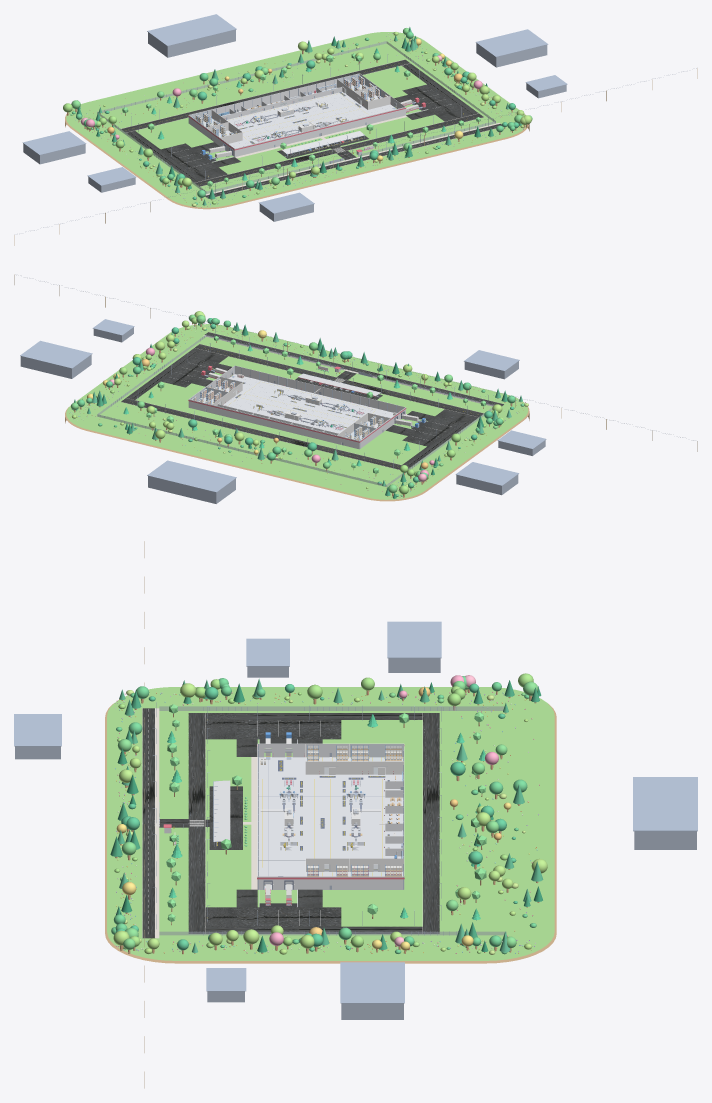
File: PATY_Planta_v9.glb
3 views of the same model, one above another, from view 1: azimuth 30°, elevation 25°; view 2: azimuth 150°, elevation 25°; view 3: azimuth 270°, elevation 25° (orthographic). The views are drawn at different scales.
Parts seen in each view (by area): view 1: PATY_Planta_Visual; view 2: PATY_Planta_Visual; view 3: PATY_Planta_Visual.
Boxes of the visible parts, bbox=[...] form: PATY_Planta_Visual: bbox=[14, 14, 697, 245]; PATY_Planta_Visual: bbox=[14, 274, 697, 503]; PATY_Planta_Visual: bbox=[14, 541, 697, 1088].
Bounding box in the file's own units: 600 × 21.51 × 327.
93 materials, 1 textured.
